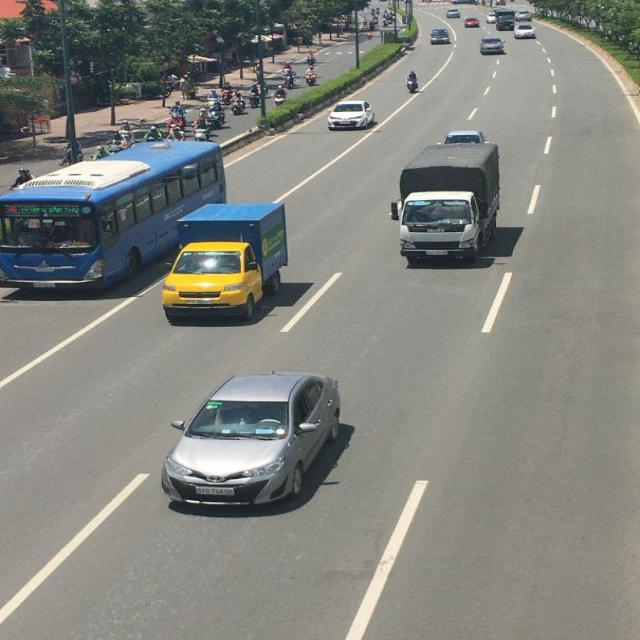bus: (1, 140, 231, 290)
car: (160, 372, 347, 509), (330, 104, 375, 134), (445, 130, 484, 146), (479, 38, 505, 57), (429, 26, 452, 45), (515, 25, 537, 39), (514, 11, 534, 24), (464, 17, 481, 29), (447, 10, 461, 20)
truck: (156, 200, 288, 323), (396, 142, 502, 269), (495, 11, 516, 31)
